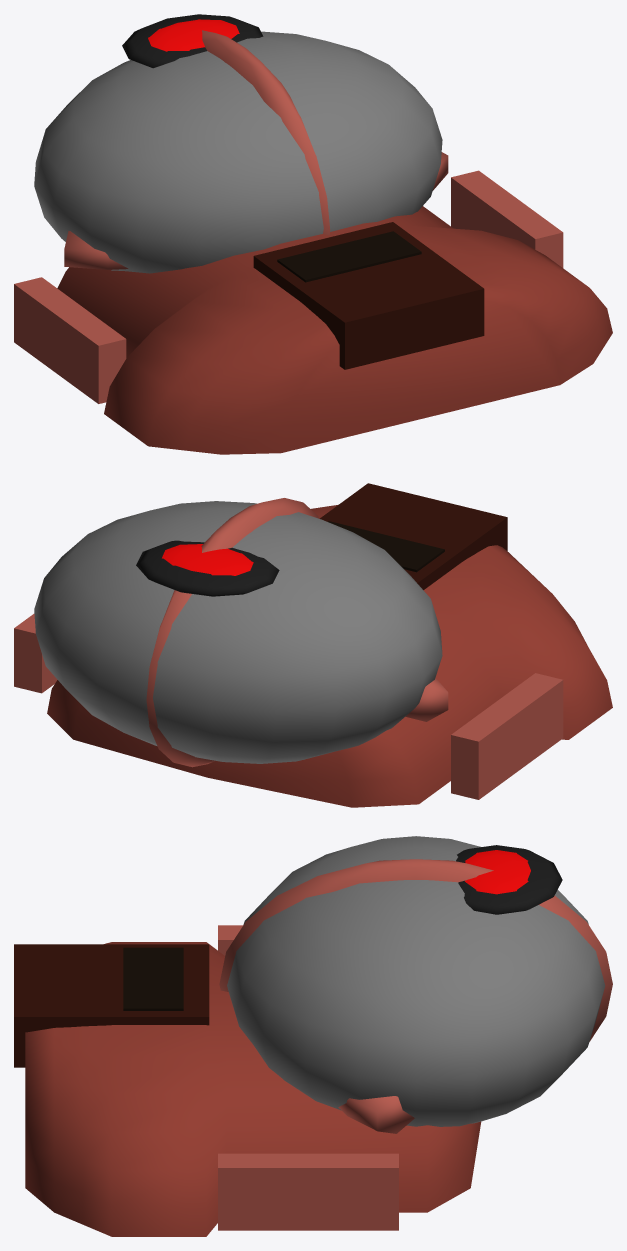
The model's file is newshc-77-f6.glb.
3 renders of one model, top to bottom at view 1: azimuth 30°, elevation 25°; view 2: azimuth 150°, elevation 25°; view 3: azimuth 270°, elevation 25°, orthographic. The views are drawn at different scales.
Visible parts, largest first — view 1: newshc-77-f6; view 2: newshc-77-f6; view 3: newshc-77-f6.
Boxes of the visible parts, x1=… form: newshc-77-f6: x1=14, y1=14, x2=612, y2=454; newshc-77-f6: x1=14, y1=483, x2=612, y2=807; newshc-77-f6: x1=14, y1=836, x2=612, y2=1236.
Size of the model in its own units: 1.67 by 0.82 by 1.74.
